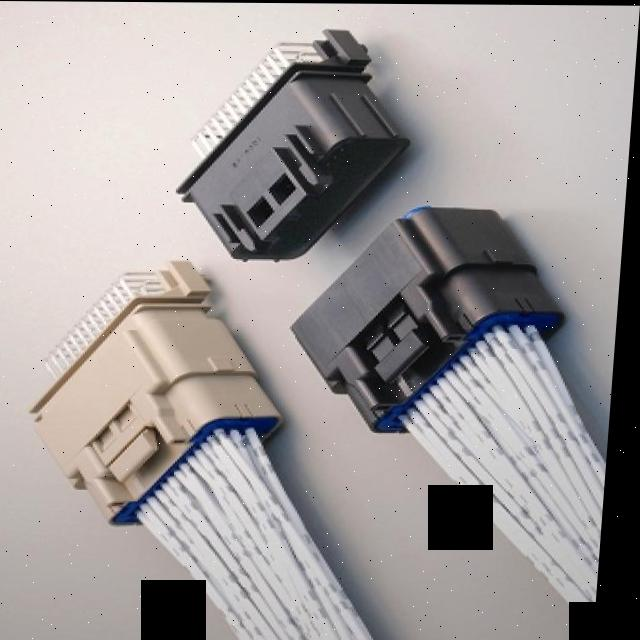connector: (36, 260, 291, 531), (298, 204, 568, 432), (181, 27, 414, 262)
